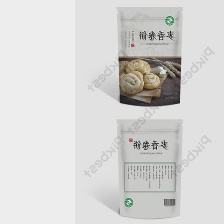snack: (110, 0, 189, 111), (112, 113, 187, 224)
